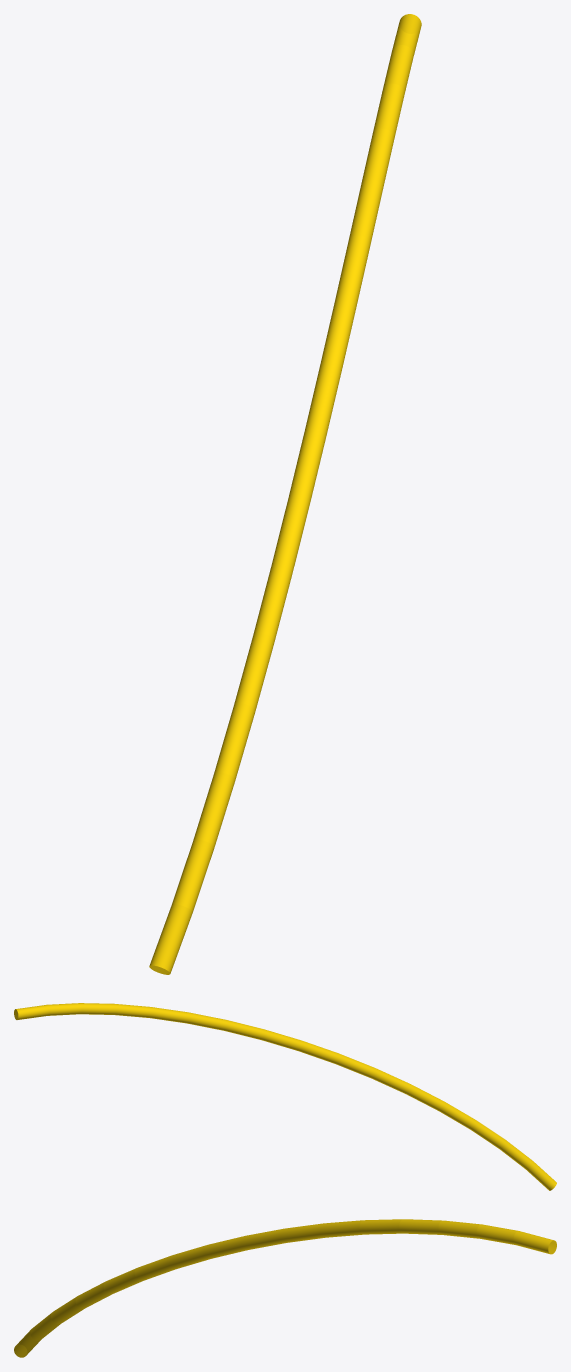
Rendered from Event_421115418_track_203.fbx.
3 views of the same model, one above another, from view 1: azimuth 30°, elevation 25°; view 2: azimuth 150°, elevation 25°; view 3: azimuth 270°, elevation 25° (orthographic). The views are drawn at different scales.
Parts seen in each view (by area): view 1: Model; view 2: Model; view 3: Model.
Boxes of the visible parts, x1,y1,x2,y2 form: Model: (149, 14, 421, 974); Model: (14, 1003, 556, 1190); Model: (14, 1219, 556, 1357).
Bounding box in the file's own units: 1.39 × 0.9821 × 1.49.
